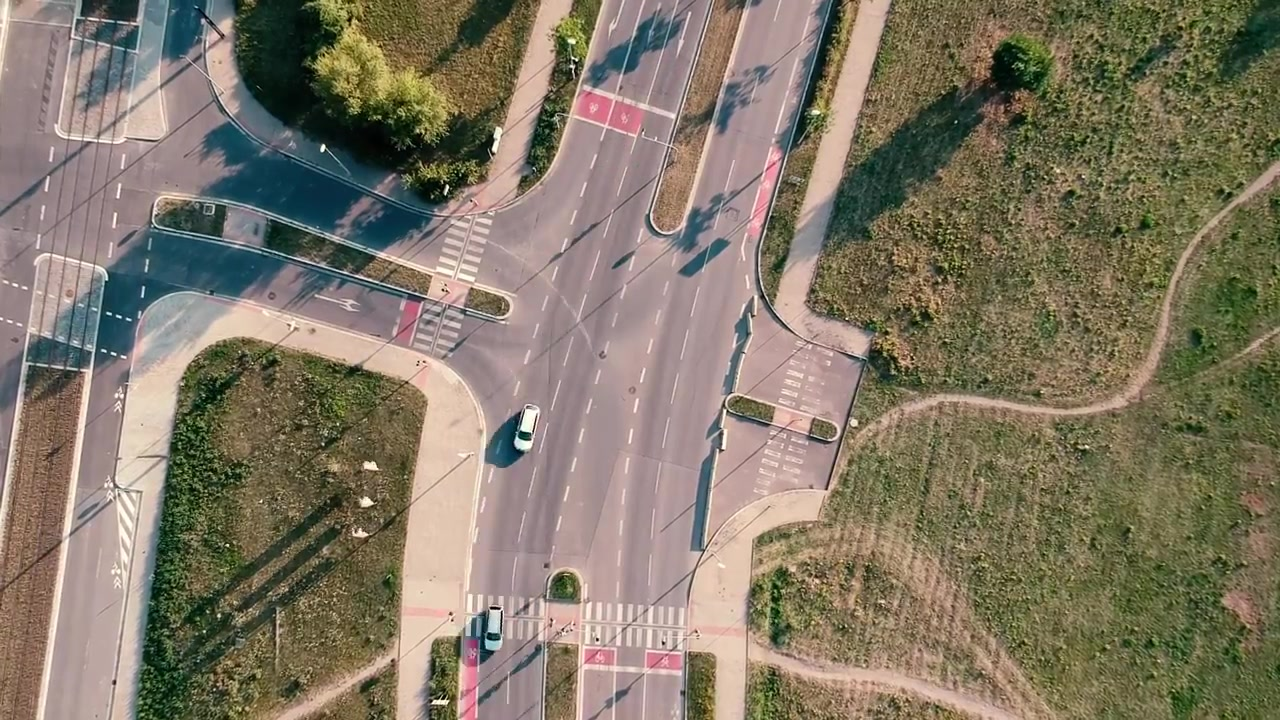car: (508, 401, 544, 454), (481, 601, 507, 651)
